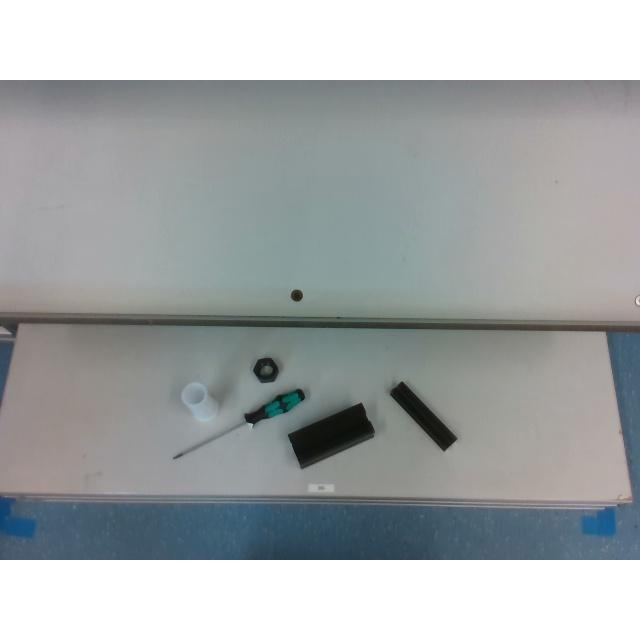F20_20_B: (389, 382, 457, 451)
M20: (254, 358, 278, 382)
S40_40_B: (290, 404, 374, 468)
Screwdriver: (172, 388, 306, 459)
Spacer: (182, 382, 218, 422)
